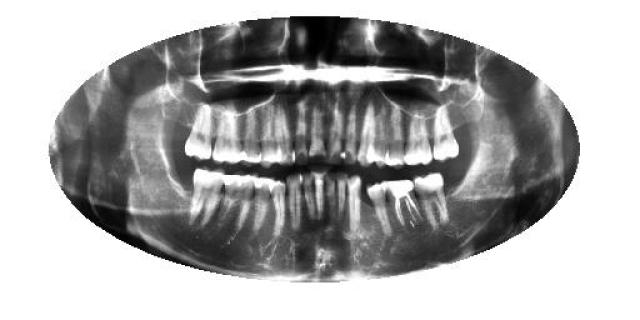Fillings: (215, 172, 254, 232), (240, 105, 262, 166), (252, 174, 272, 234), (270, 180, 286, 235)
Implant: (388, 178, 423, 232)
